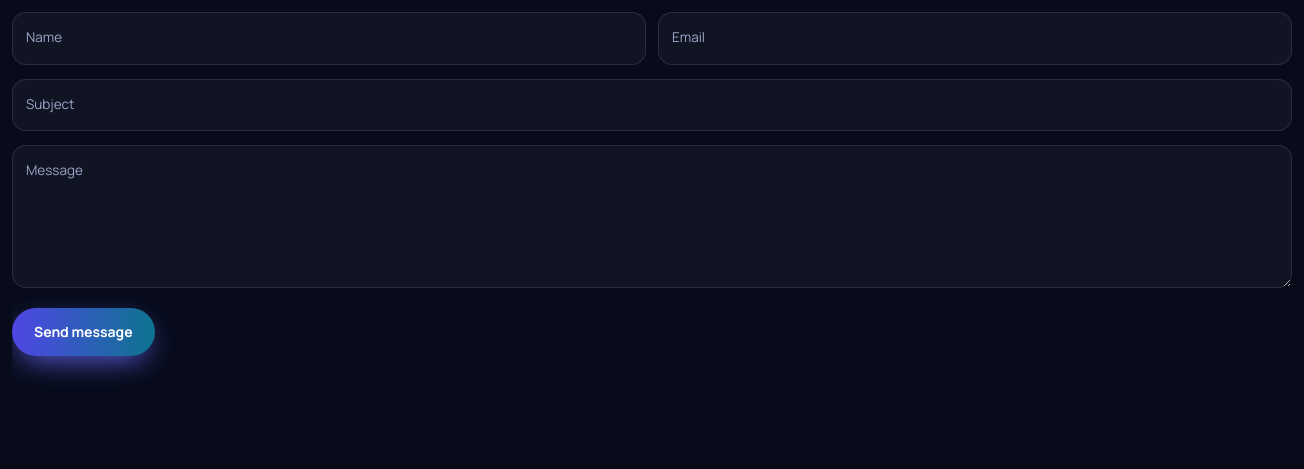
it: ContactForm › shows the email fallback when Formspree fails
The width and height of the screenshot is (1304, 469).
Type "Ada Lovelace" into the field labelled "Name" at (329, 38), box [12, 12, 646, 64]
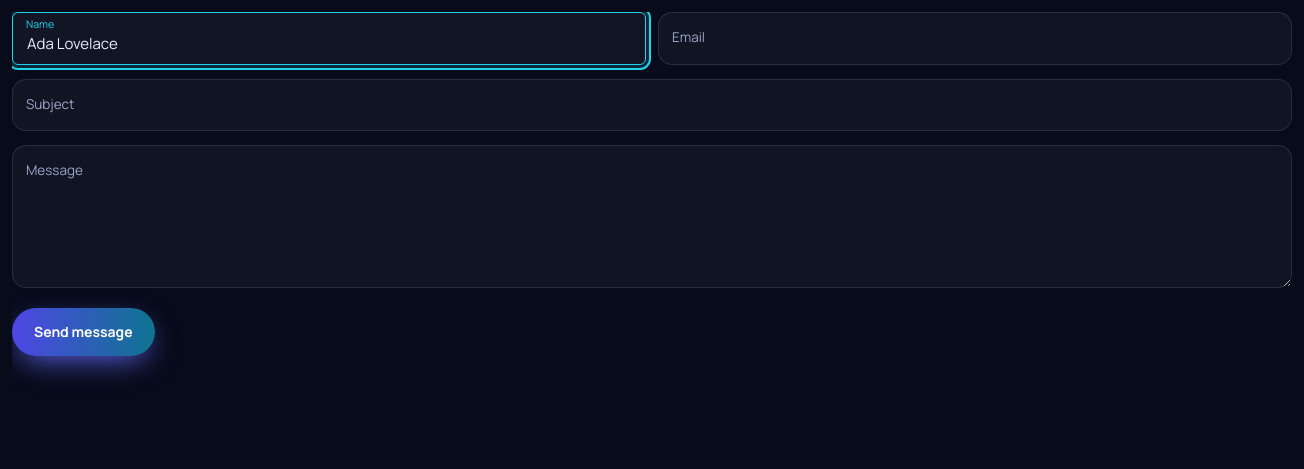
Type "ada@example.com" into the field labelled "Email" at (975, 38), box [658, 12, 1292, 64]
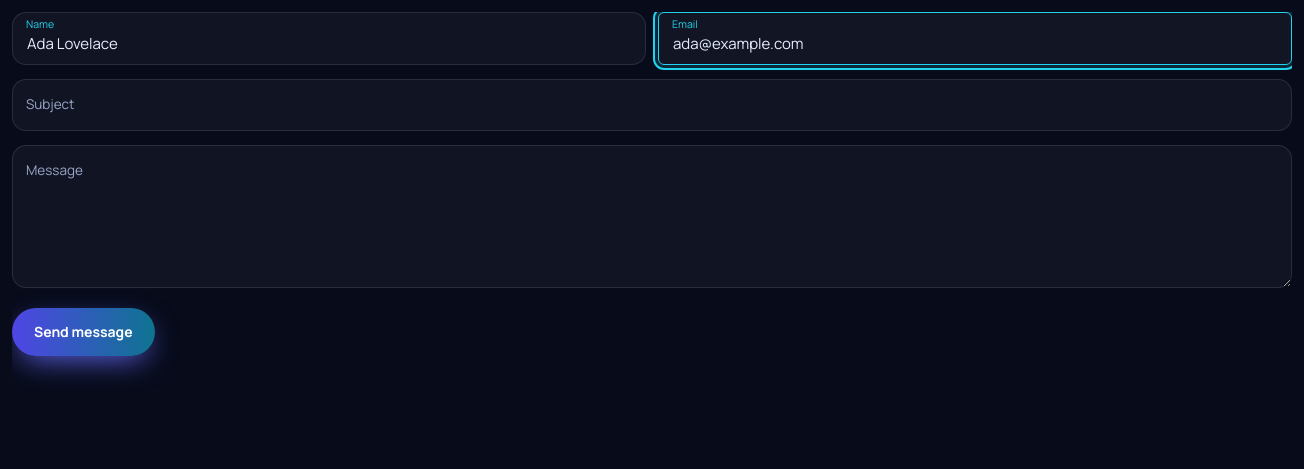
Type "Booking app" into the field labelled "Subject" at (652, 105), box [12, 78, 1292, 131]
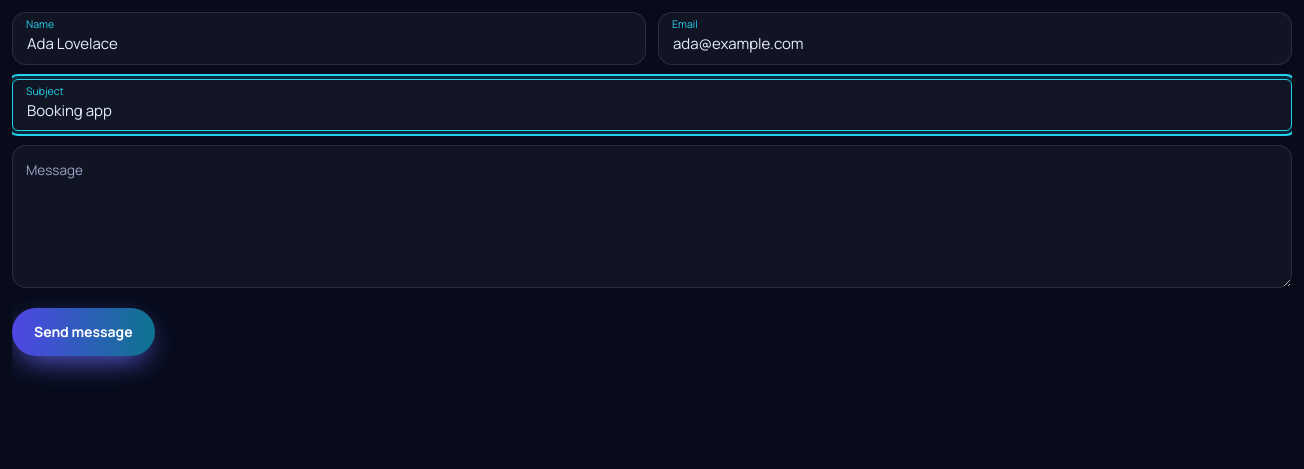
Type "I need a Flutter booking app, about ten screens." into the text box labelled "Message" at (652, 216), box [12, 145, 1292, 288]
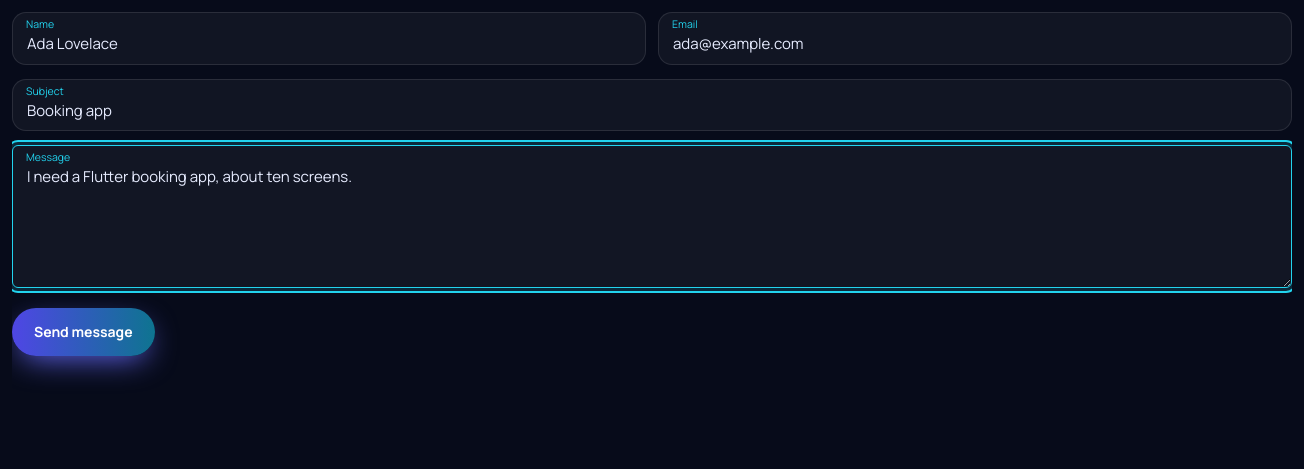
Click the button "Send message" at (83, 332), box [12, 308, 155, 356]
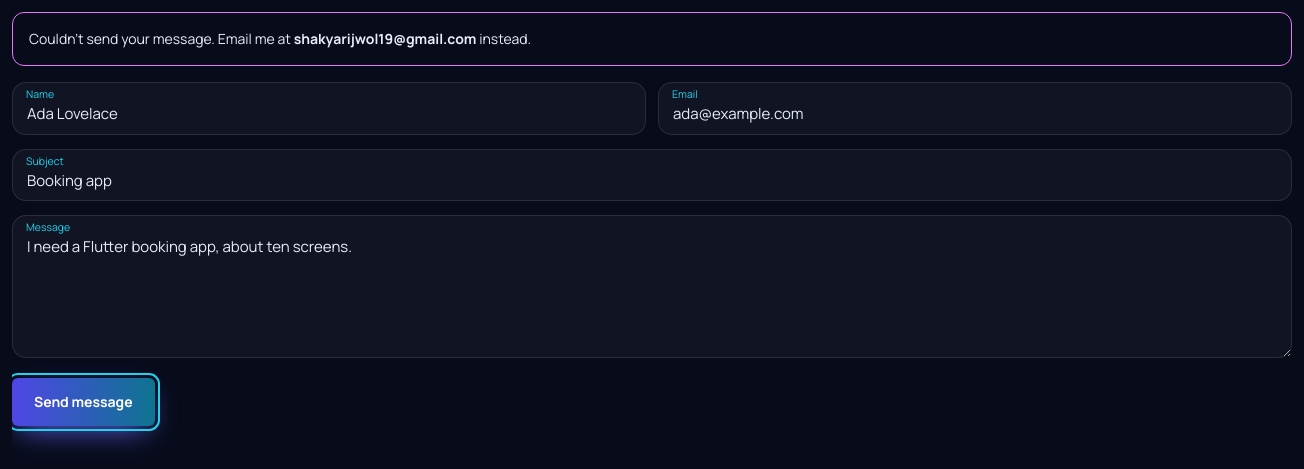
Now the text "Couldn't send your message. Email me at shakyarijwol19@gmail.com instead." is shown, box [12, 12, 1292, 66]
